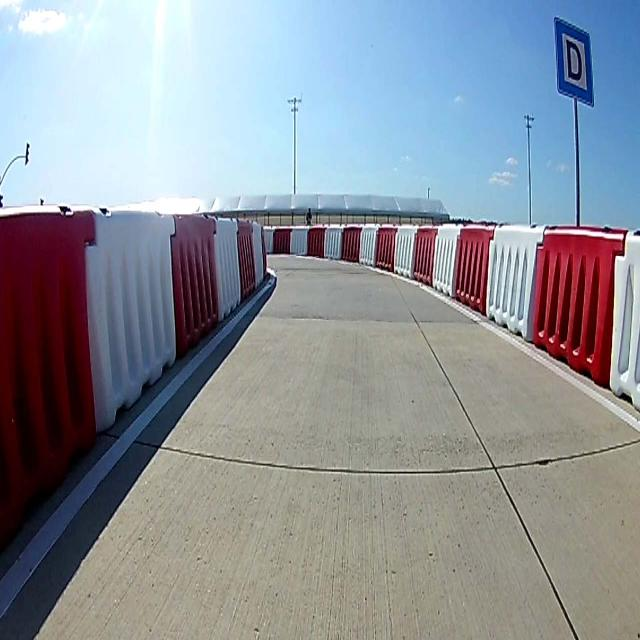durak: (554, 17, 593, 107)
